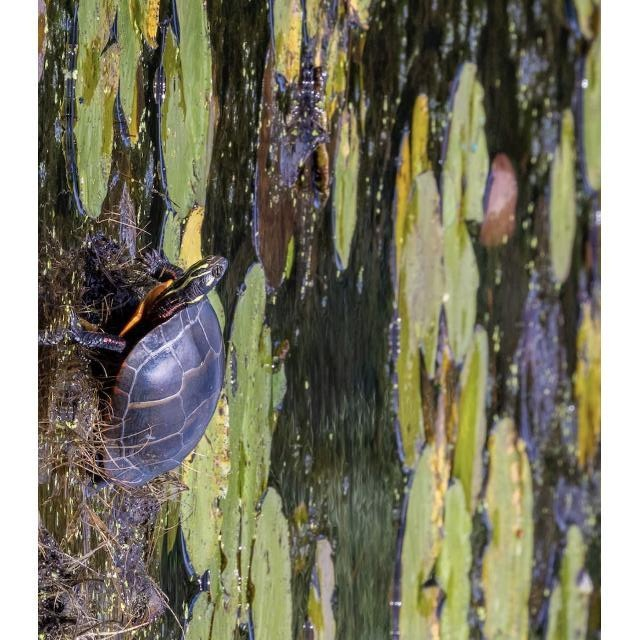turtle: (63, 247, 230, 489)
